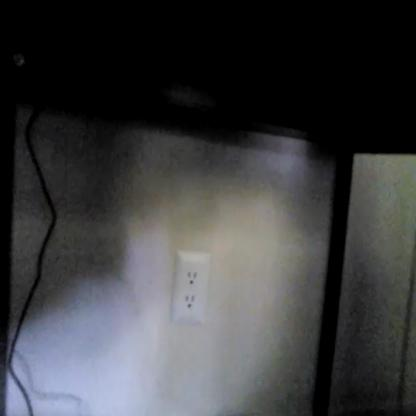OUTLET: (171, 250, 210, 323)
